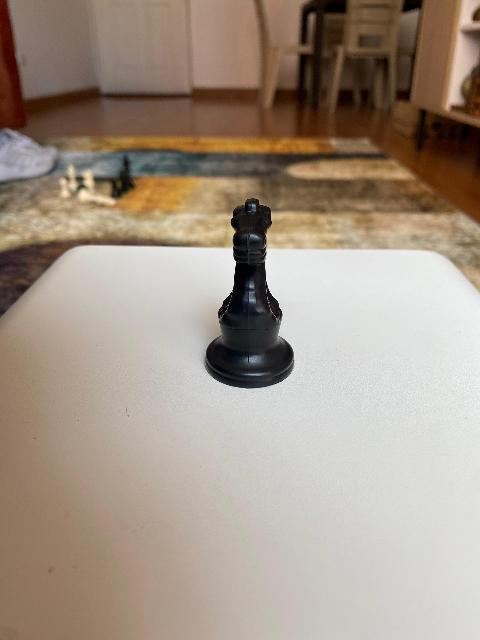black-knight: (204, 198, 294, 388)
